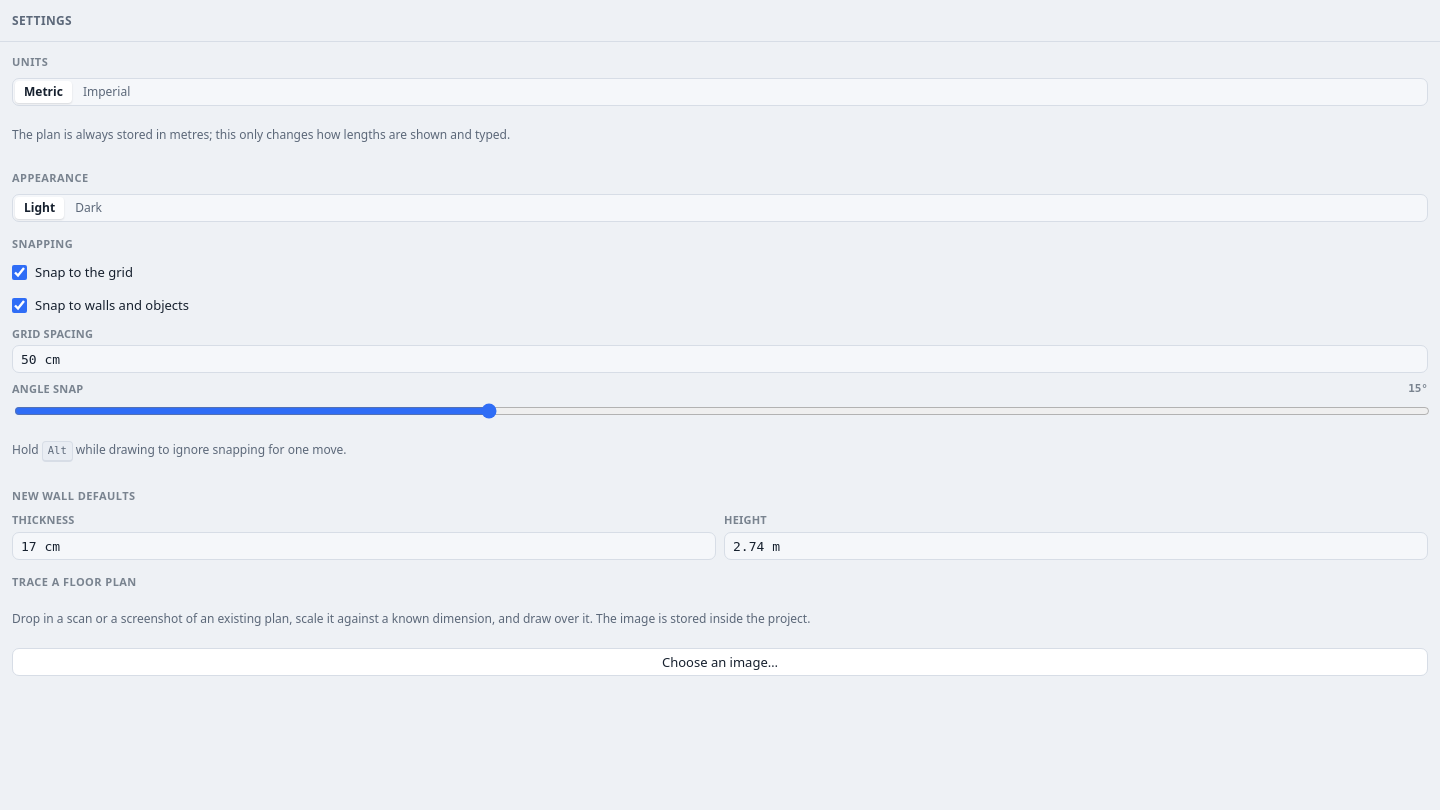
units › changes what lengths look like without changing what the plan holds
The width and height of the screenshot is (1440, 810).
Expected: the field labelled "Grid spacing" holds "50 cm", top-left (12, 345), bottom-right (1428, 373)
Click the button "Imperial" at (107,92), box top-left (74, 81), bottom-right (139, 103)
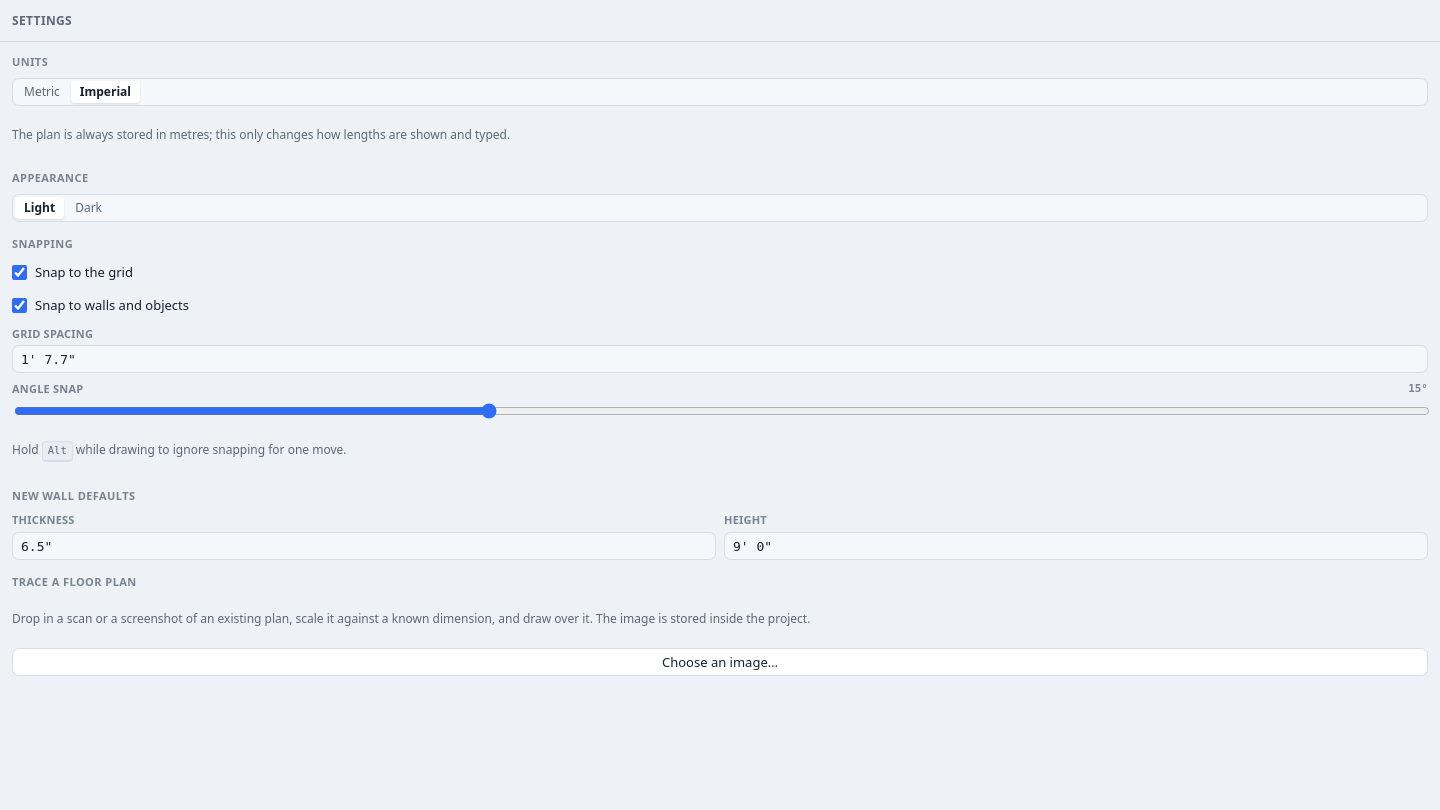
Result: the field labelled "Grid spacing" holds "1' 7.7\""
Replace the text in the field labelled "Grid spacing" with "2" at (720,359), box top-left (12, 345), bottom-right (1428, 373)
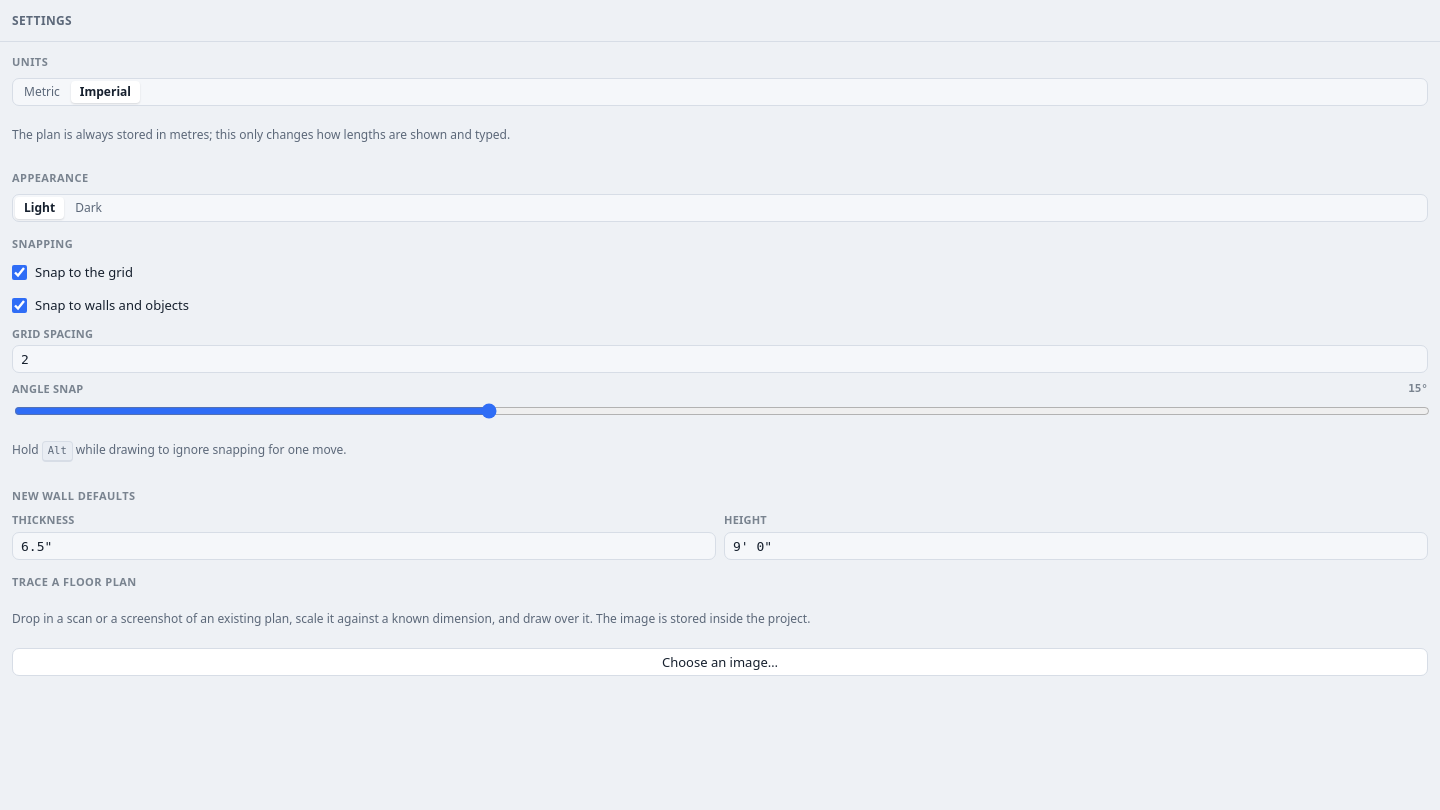
Leave the field labelled "Grid spacing", box top-left (12, 345), bottom-right (1428, 373)
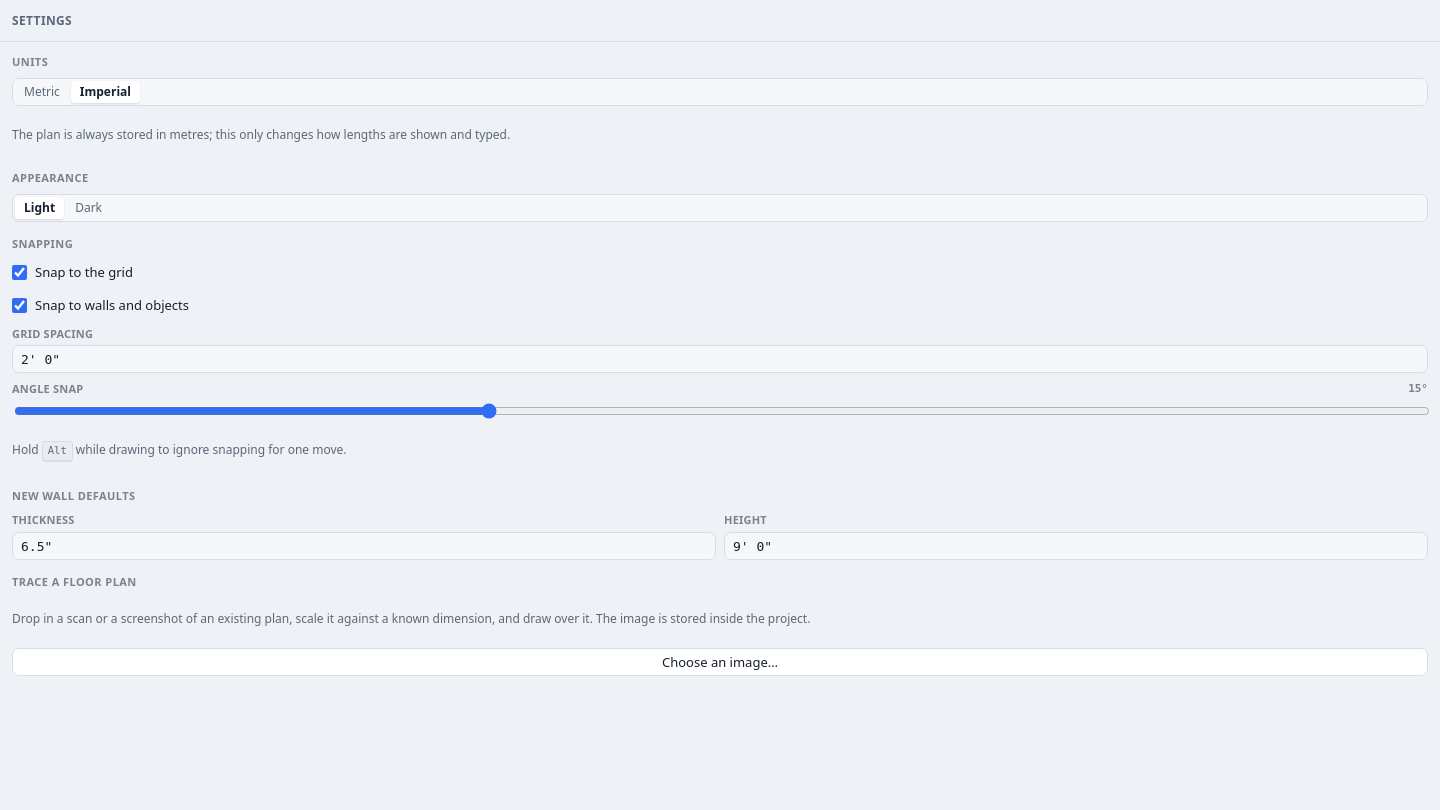
Result: the field labelled "Grid spacing" holds "2' 0\"" at top-left (12, 345), bottom-right (1428, 373)
